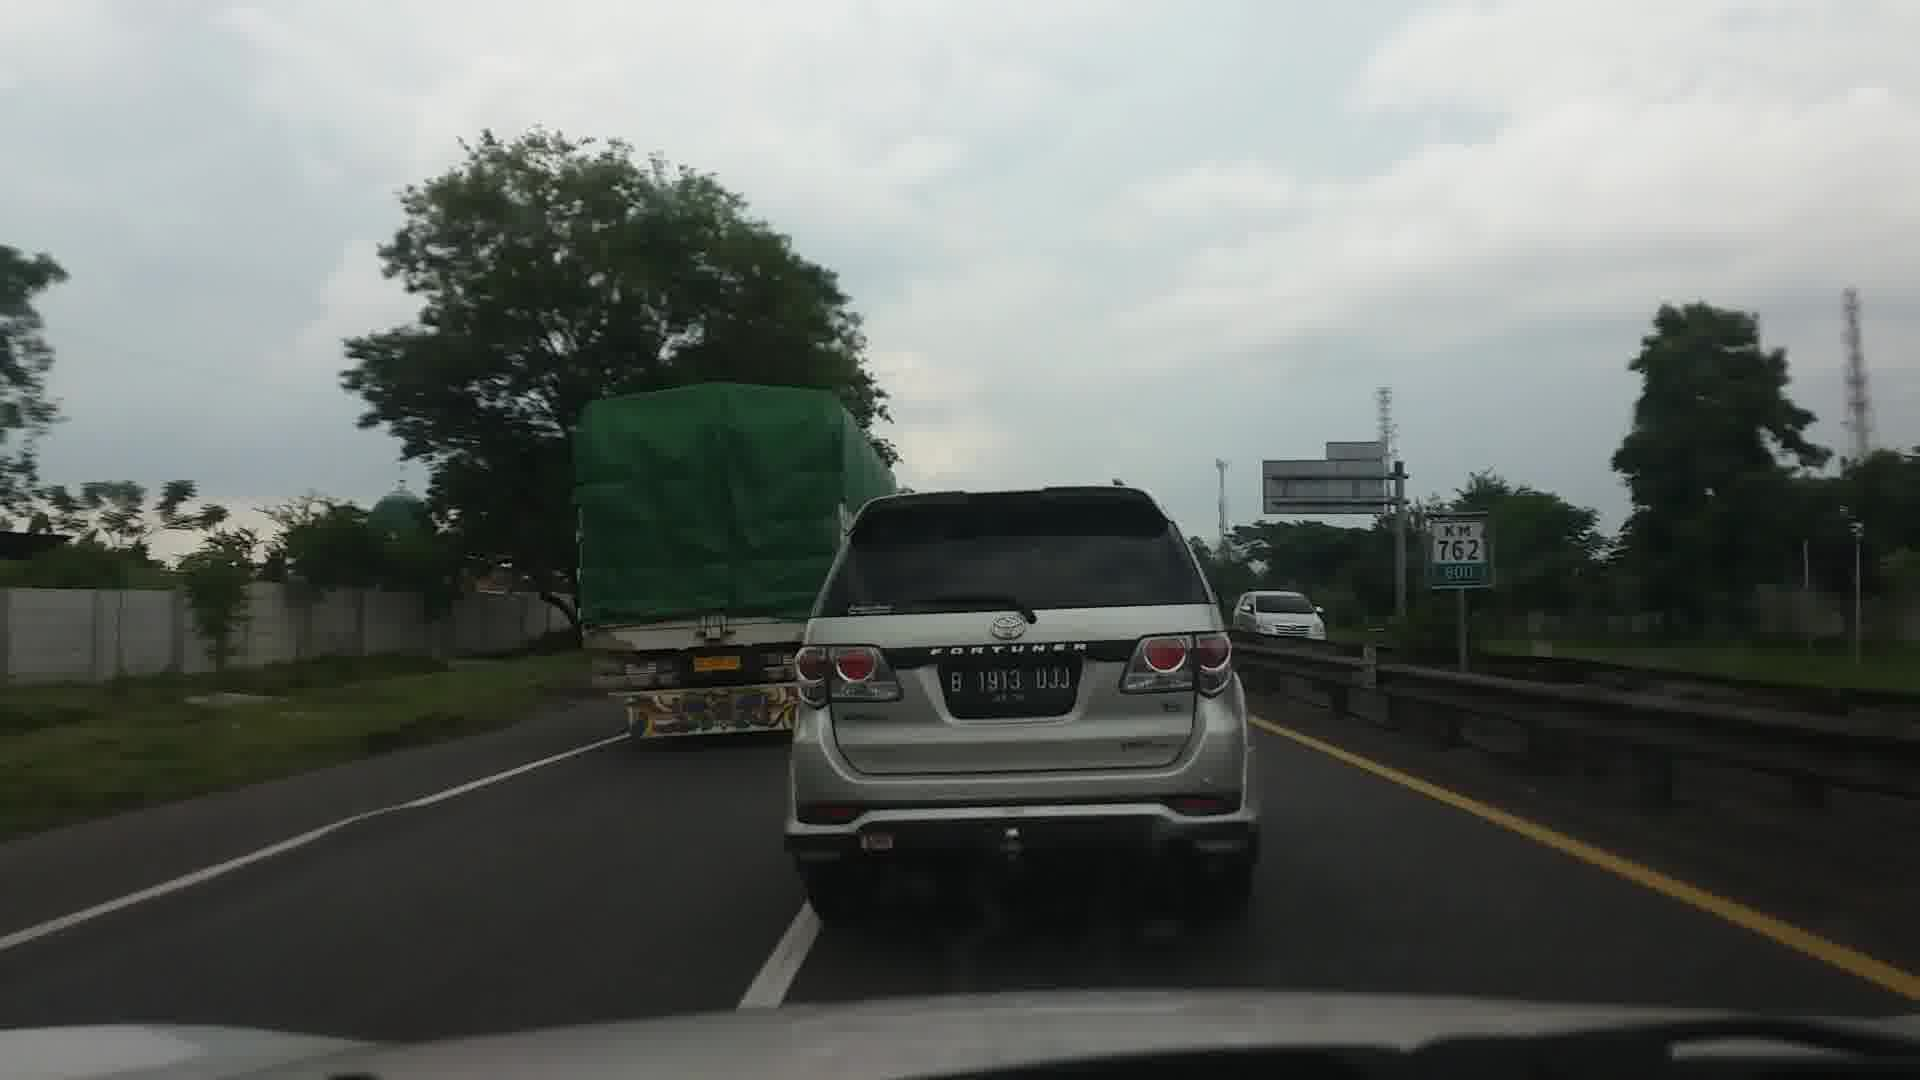plate_positive: (945, 663, 1073, 705)
